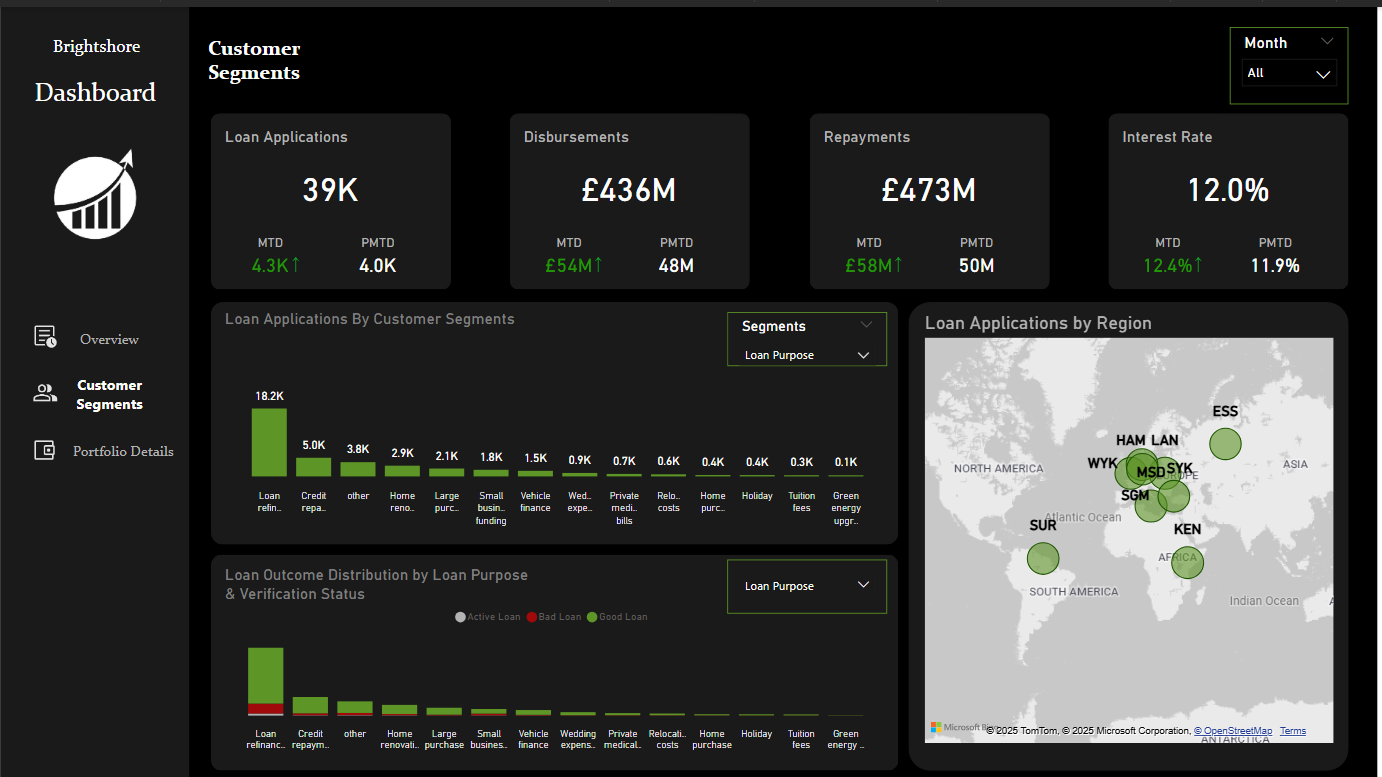

Layout of this report page (visuals, bound fields, positions):
{"tool":"powerbi","page":{"name":"Customer Segments","canvas":[1280,720],"ordinal":1},"visuals":[{"type":"shape","box":[0,0,175.6,719.8],"z":0},{"type":"shape","box":[195.3,98.3,223.3,164],"z":0,"group":"g1"},{"type":"shape","box":[473.6,98.3,223.3,164],"z":0,"group":"g2"},{"type":"shape","box":[751.9,98.3,223.3,164],"z":0,"group":"g3"},{"type":"group","id":"g1","title":"Group 1","box":[195.3,98.3,223.3,165.1],"z":1000},{"type":"shape","box":[1030.2,98.3,223.3,164],"z":1000,"group":"g4"},{"type":"card","title":"Disbursements","fields":{"Values":["Sum(Brightshore.loan_amount)"]},"box":[481.7,111.1,205.8,100],"z":1000,"group":"g2"},{"type":"card","title":"Repayments","fields":{"Values":["Sum(Brightshore.total_payment)"]},"box":[760,111.1,205.8,100],"z":1000,"group":"g3"},{"type":"group","id":"g2","title":"Group 2","box":[473.6,98.3,223.3,165.1],"z":2000},{"type":"card","title":"Interest Rate","fields":{"Values":["Avg(Brightshore.int_rate)"]},"box":[1038.3,111.1,205.8,100],"z":2000,"group":"g4"},{"type":"card","title":"MTD","fields":{"Values":["Measures (2).Disbursement MTD"]},"box":[481.7,211.1,94.2,38.4],"z":2000,"group":"g2"},{"type":"card","title":"MTD","fields":{"Values":["Measures (2).Repayments_MTD"]},"box":[760,211.1,94.2,38.4],"z":2000,"group":"g3"},{"type":"group","id":"g3","title":"Group 3","box":[751.9,98.3,223.3,165.1],"z":3000},{"type":"card","title":"Loan Applications","fields":{"Values":["CountNonNull(Brightshore.Loan_id)"]},"box":[203.4,111.1,205.8,100],"z":3000,"group":"g1"},{"type":"card","title":"PMTD ","fields":{"Values":["Measures (2).Disburse_PMTD"]},"box":[581.7,211.1,94.2,38.4],"z":3000,"group":"g2"},{"type":"card","title":"PMTD ","fields":{"Values":["Measures (2).Repayments_PMTD"]},"box":[860,211.1,94.2,38.4],"z":3000,"group":"g3"},{"type":"card","title":"MTD","fields":{"Values":["Measures (2).int_rate MTD"]},"box":[1038.3,211.1,94.2,38.4],"z":3000,"group":"g4"},{"type":"group","id":"g4","title":"Group 4","box":[1030.2,98.3,223.3,165.1],"z":4000},{"type":"card","title":"PMTD ","fields":{"Values":["Measures (2).int_rate PMTD"]},"box":[1138.3,211.1,94.2,38.4],"z":4000,"group":"g4"},{"type":"card","title":"Loan Applications","fields":{"Values":["Measures (2).Loan_Icon"]},"box":[796.3,213.4,76.7,50],"z":4000,"group":"g3"},{"type":"card","title":"Loan Applications","fields":{"Values":["Measures (2).Loan_Icon"]},"box":[517.3,213.6,76.7,50],"z":4000,"group":"g2"},{"type":"card","title":"Loan Applications","fields":{"Values":["Measures (2).Loan_Icon"]},"box":[1075.5,213.2,76.7,50],"z":5000,"group":"g4"},{"type":"shape","box":[195.3,274.4,639.5,225.6],"z":5000},{"type":"shape","box":[195.3,509.3,639.5,201.2],"z":6000},{"type":"shape","box":[844.2,274.4,409.3,436],"z":7000},{"type":"slicer","fields":{"Values":["Bar Chart Selection.Bar Chart Selection"]},"box":[675.6,283.7,148.8,50],"z":8000},{"type":"card","title":"MTD","fields":{"Values":["Measures (2).Loan_MTD"]},"box":[203.4,211.1,94.2,38.4],"z":9000,"group":"g1"},{"type":"textbox","box":[203.5,275.6,325.6,33.7],"z":9000},{"type":"card","title":"PMTD ","fields":{"Values":["Brightshore.Loan_PMTD"]},"box":[303.4,211.1,94.2,38.4],"z":10000,"group":"g1"},{"type":"textbox","box":[203.5,514,301.2,45.3],"z":10000},{"type":"textbox","title":"Brightshore","box":[9.3,26.7,159.3,54.7],"z":11000},{"type":"card","title":"Loan Applications","fields":{"Values":["Measures (2).Loan_Icon"]},"box":[236,213.4,76.7,50],"z":11000,"group":"g1"},{"type":"textbox","title":"Dashboard","box":[0,64,175.6,57],"z":12000},{"type":"textbox","title":"Customer Segments","box":[155.8,26.7,159.3,54.7],"z":13000},{"type":"image","box":[0,96.5,175.6,152.3],"z":14000},{"type":"image","box":[0,288.4,80.2,34.9],"z":15000},{"type":"image","box":[1.2,341.9,80.2,33.7],"z":16000},{"type":"image","box":[0,395.3,80.2,33.7],"z":17000},{"type":"slicer","fields":{"Values":["Date Table.Month Name"]},"box":[1143,18.6,110.5,72.1],"z":18000},{"type":"pageNavigator","box":[46.5,283.7,109.3,50],"z":19000},{"type":"pageNavigator","box":[46.5,334.9,109.3,50],"z":20000},{"type":"pageNavigator","box":[59.3,388.4,109.3,50],"z":21000},{"type":"clusteredColumnChart","title":"Loan Applications by Grade","fields":{"Category":["Brightshore.purpose"],"Y":["Measures (2).Loan Applications"]},"box":[207,341.9,617.4,150],"z":22000},{"type":"columnChart","fields":{"Category":["Brightshore.purpose"],"Y":["CountNonNull(Brightshore.Loan_id)"],"Series":["Brightshore.Loan Class"]},"box":[203.5,548.8,620.9,150],"z":23000},{"type":"map","title":"Loan Applications by Region","fields":{"Category":["Brightshore.address_state"],"Size":["Measures (2).Loan Applications"]},"box":[854.7,283.7,389.5,406],"z":24000},{"type":"slicer","fields":{"Values":["Verification Status.Verification Status"]},"box":[675.6,514,148.8,50],"z":25000}]}

Visuals, with their boxes on the page's 1280x720 design canvas (x1, y1, x2, y2). These are canvas units, not pixel positions in the 1382x777 screenshot, which may show the page scaled, cropped or inside an application window:
shape: pyautogui.locateOnScreen(0, 0, 176, 720)
shape: pyautogui.locateOnScreen(195, 98, 419, 262)
shape: pyautogui.locateOnScreen(474, 98, 697, 262)
shape: pyautogui.locateOnScreen(752, 98, 975, 262)
"Group 1" group: pyautogui.locateOnScreen(195, 98, 419, 263)
shape: pyautogui.locateOnScreen(1030, 98, 1254, 262)
"Disbursements" card: pyautogui.locateOnScreen(482, 111, 688, 211)
"Repayments" card: pyautogui.locateOnScreen(760, 111, 966, 211)
"Group 2" group: pyautogui.locateOnScreen(474, 98, 697, 263)
"Interest Rate" card: pyautogui.locateOnScreen(1038, 111, 1244, 211)
"MTD" card: pyautogui.locateOnScreen(482, 211, 576, 250)
"MTD" card: pyautogui.locateOnScreen(760, 211, 854, 250)
"Group 3" group: pyautogui.locateOnScreen(752, 98, 975, 263)
"Loan Applications" card: pyautogui.locateOnScreen(203, 111, 409, 211)
"PMTD " card: pyautogui.locateOnScreen(582, 211, 676, 250)
"PMTD " card: pyautogui.locateOnScreen(860, 211, 954, 250)
"MTD" card: pyautogui.locateOnScreen(1038, 211, 1132, 250)
"Group 4" group: pyautogui.locateOnScreen(1030, 98, 1254, 263)
"PMTD " card: pyautogui.locateOnScreen(1138, 211, 1232, 250)
"Loan Applications" card: pyautogui.locateOnScreen(796, 213, 873, 263)
"Loan Applications" card: pyautogui.locateOnScreen(517, 214, 594, 264)
"Loan Applications" card: pyautogui.locateOnScreen(1076, 213, 1152, 263)
shape: pyautogui.locateOnScreen(195, 274, 835, 500)
shape: pyautogui.locateOnScreen(195, 509, 835, 710)
shape: pyautogui.locateOnScreen(844, 274, 1254, 710)
slicer - Bar Chart Selection.Bar Chart Selection: pyautogui.locateOnScreen(676, 284, 824, 334)
"MTD" card: pyautogui.locateOnScreen(203, 211, 298, 250)
textbox: pyautogui.locateOnScreen(204, 276, 529, 309)
"PMTD " card: pyautogui.locateOnScreen(303, 211, 398, 250)
textbox: pyautogui.locateOnScreen(204, 514, 505, 559)
"Brightshore" textbox: pyautogui.locateOnScreen(9, 27, 169, 81)
"Loan Applications" card: pyautogui.locateOnScreen(236, 213, 313, 263)
"Dashboard" textbox: pyautogui.locateOnScreen(0, 64, 176, 121)
"Customer Segments" textbox: pyautogui.locateOnScreen(156, 27, 315, 81)
image: pyautogui.locateOnScreen(0, 96, 176, 249)
image: pyautogui.locateOnScreen(0, 288, 80, 323)
image: pyautogui.locateOnScreen(1, 342, 81, 376)
image: pyautogui.locateOnScreen(0, 395, 80, 429)
slicer - Date Table.Month Name: pyautogui.locateOnScreen(1143, 19, 1254, 91)
pageNavigator: pyautogui.locateOnScreen(46, 284, 156, 334)
pageNavigator: pyautogui.locateOnScreen(46, 335, 156, 385)
pageNavigator: pyautogui.locateOnScreen(59, 388, 169, 438)
"Loan Applications by Grade" clusteredColumnChart: pyautogui.locateOnScreen(207, 342, 824, 492)
columnChart - Brightshore.purpose x CountNonNull(Brightshore.Loan_id): pyautogui.locateOnScreen(204, 549, 824, 699)
"Loan Applications by Region" map: pyautogui.locateOnScreen(855, 284, 1244, 690)
slicer - Verification Status.Verification Status: pyautogui.locateOnScreen(676, 514, 824, 564)
